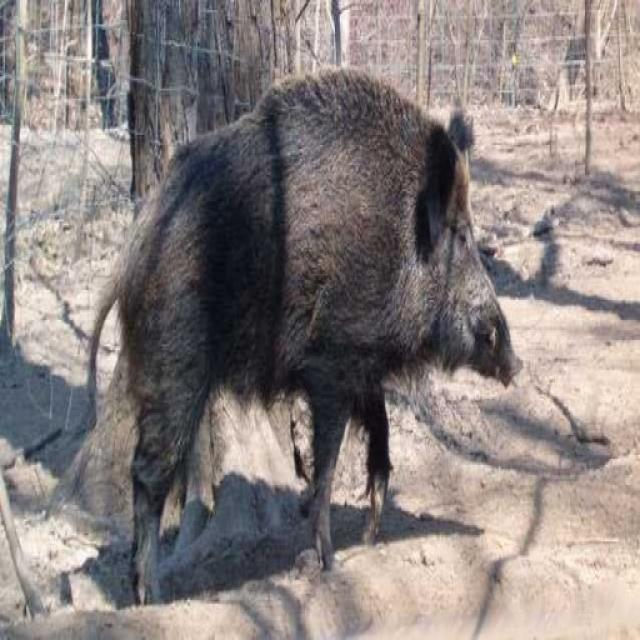pig: (40, 45, 527, 600)
